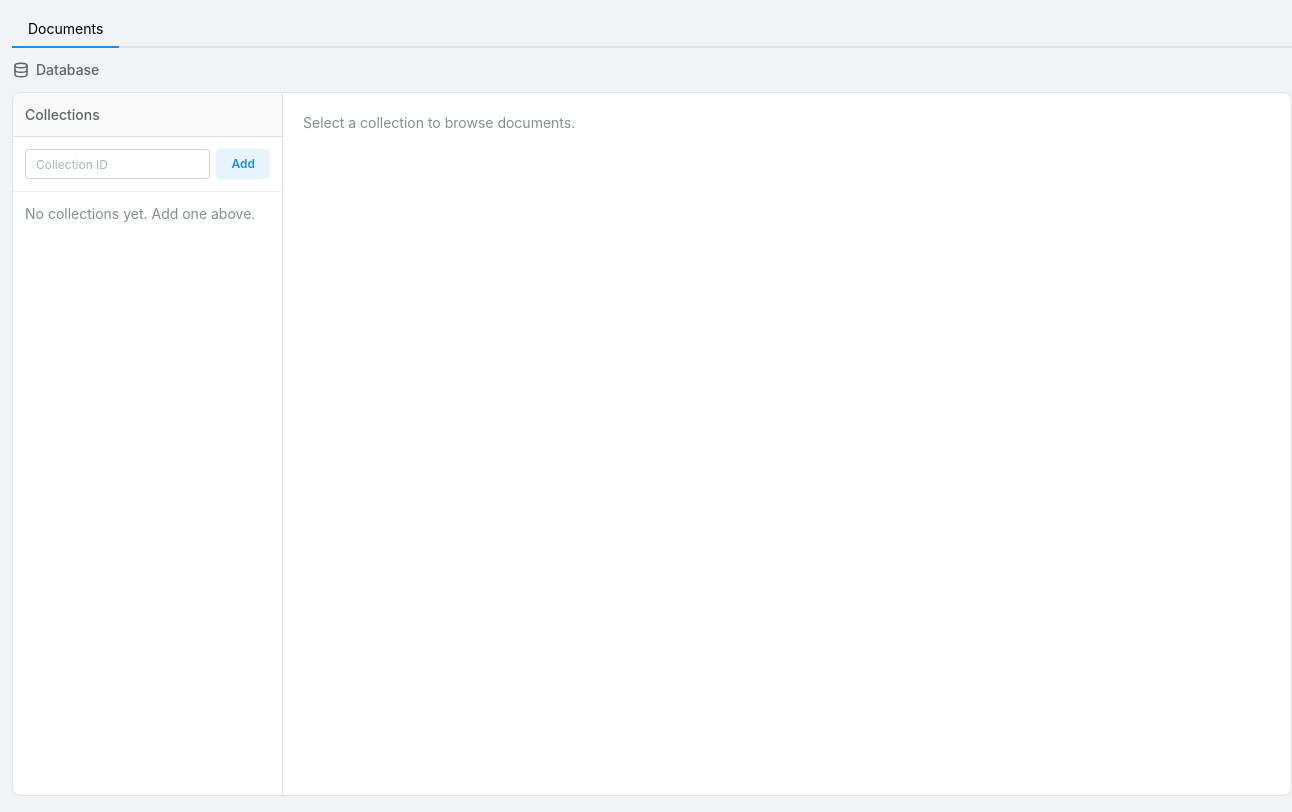
Test: selecting a document loads and renders its fields
In the field with placeholder "Collection ID": [118, 164] box x1=25 y1=149 x2=210 y2=179, type "users"
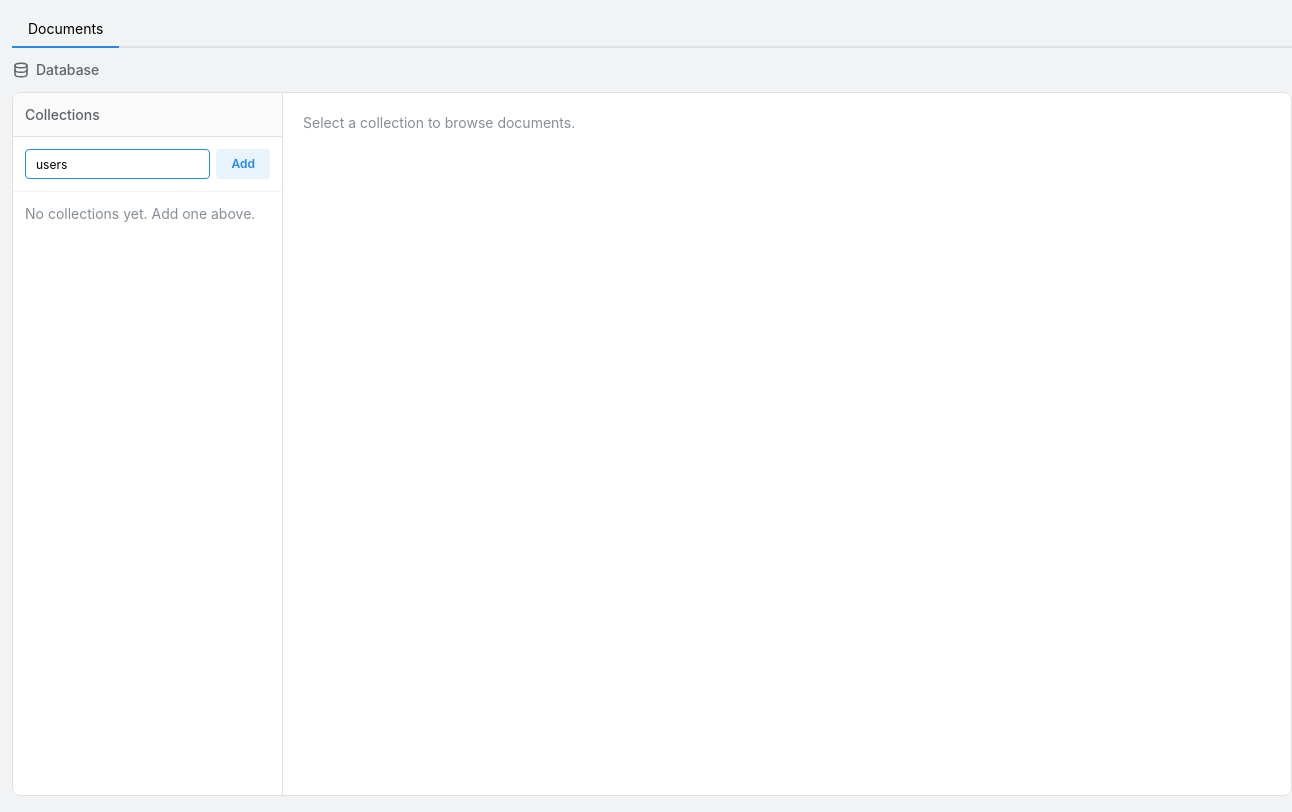
Click the button "Add": [243, 164] box x1=216 y1=149 x2=270 y2=179
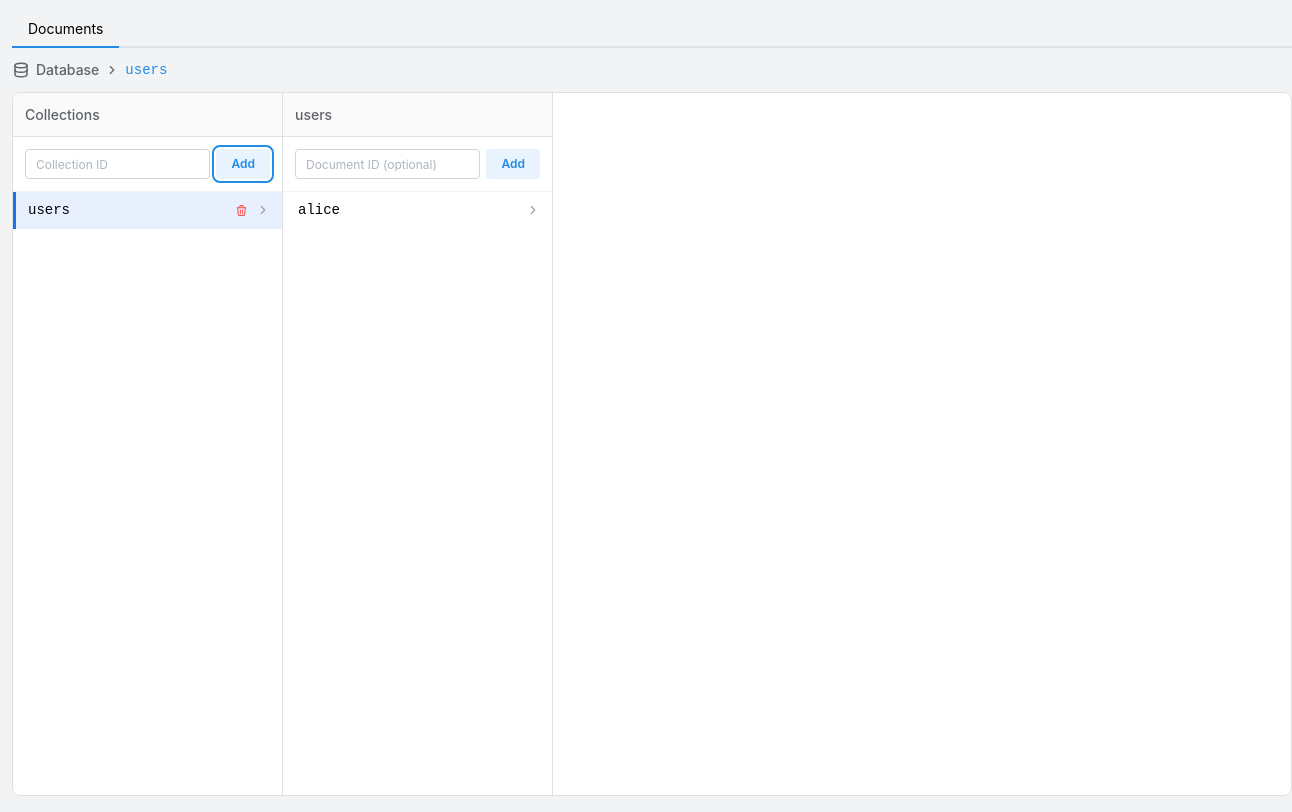
Expected: the button "alice" is shown
Click the button "alice": [319, 210] box x1=298 y1=202 x2=540 y2=218
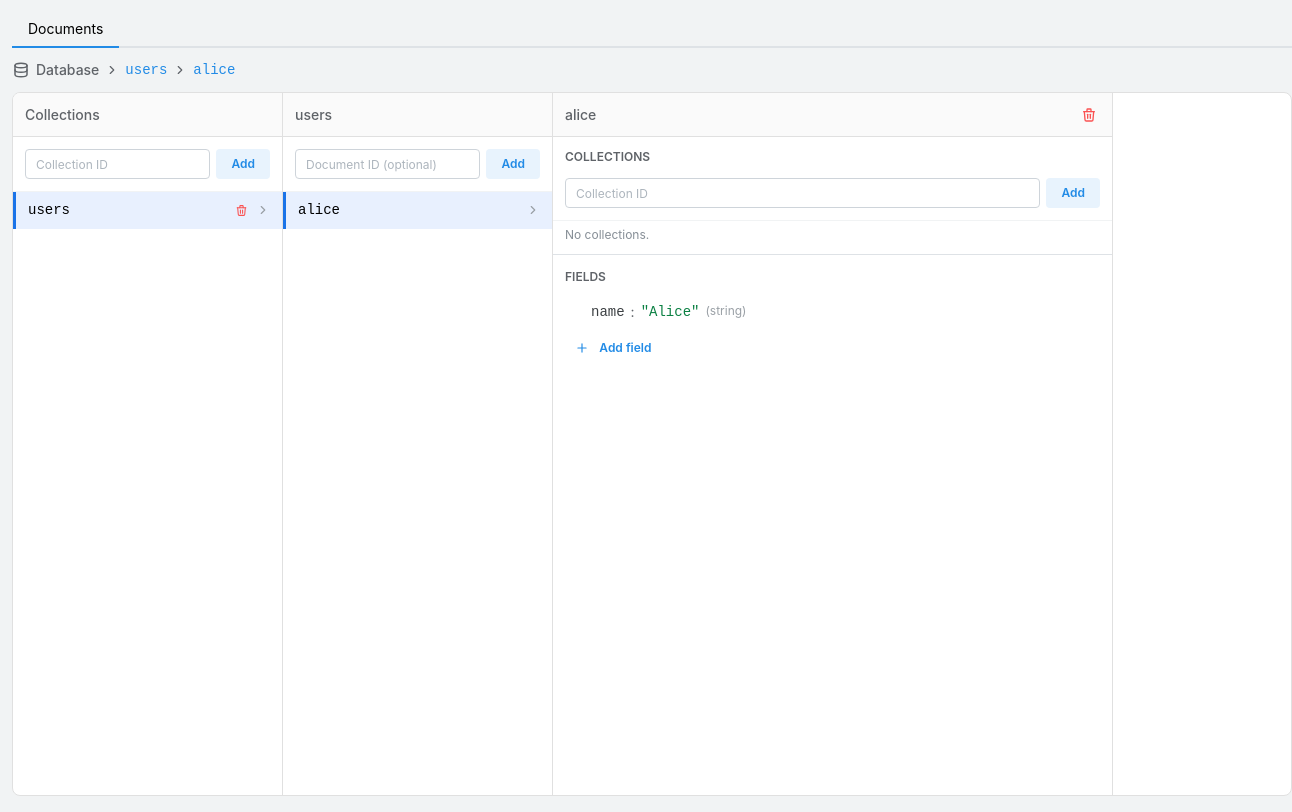
Expected: the text "\"Alice\"" is shown, x1=641 y1=302 x2=700 y2=322
